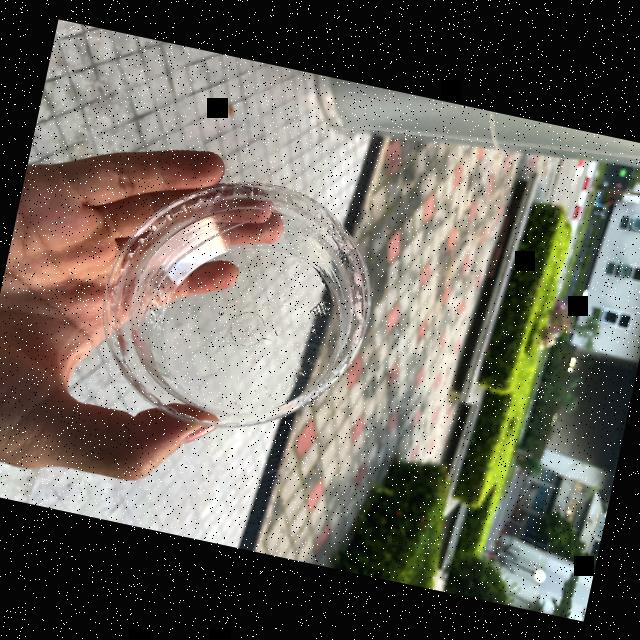plastic_cup_lid: (72, 148, 397, 480)
